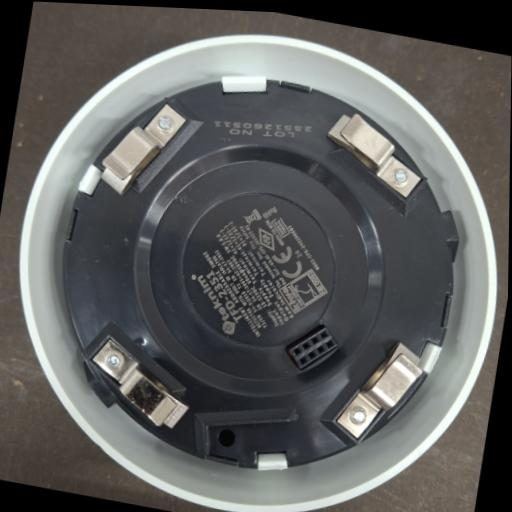yayli: (82, 335, 200, 438), (96, 90, 194, 210), (335, 330, 432, 450), (318, 107, 432, 202)
